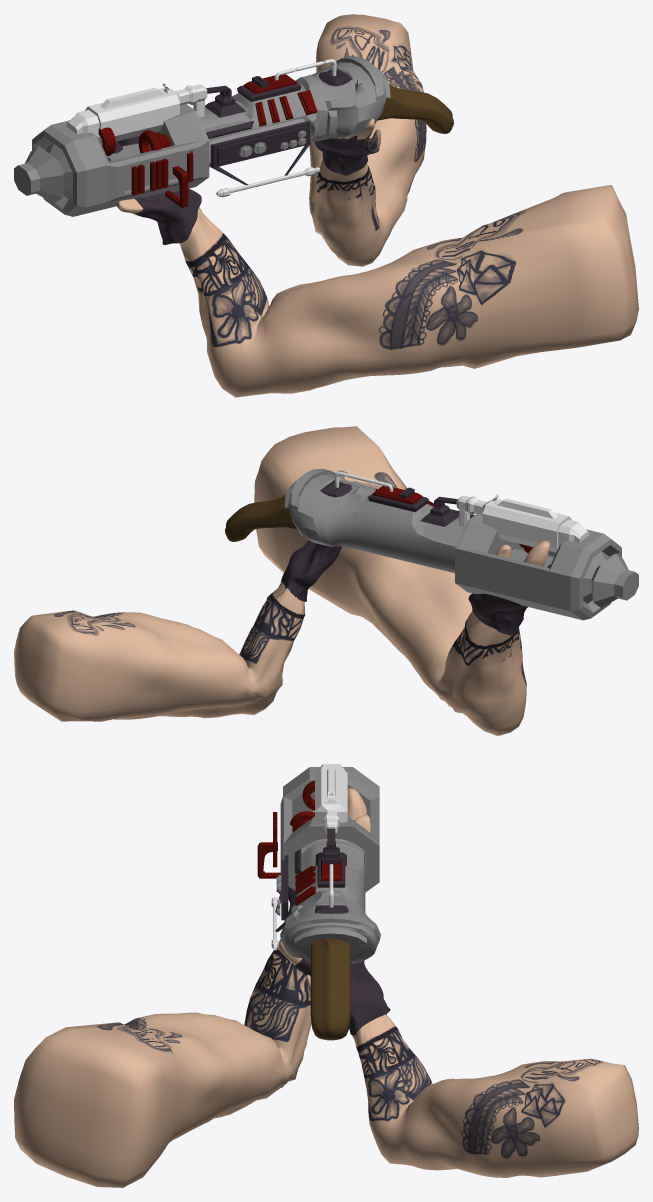
The model's file is YeniKol.fbx.
3 views of the same model, one above another, from view 1: azimuth 30°, elevation 25°; view 2: azimuth 150°, elevation 25°; view 3: azimuth 270°, elevation 25° (orthographic). The views are drawn at different scales.
Visible parts, largest first — view 1: Cube.003, Cube.013, Cube.011, Cube.024, Cube.019, Cube.006, Cube.016, Cube.001, Cube.015, Cube.005, Cylinder.005, Cube.012 (+2 smaller); view 2: Cube.003, Cube.013, Cube.011, Cube.024, Cube.019, Cube.006, Cube.015, Cube.001, Cube.018, Cube.020, Cube.021; view 3: Cube.003, Cube.013, Cube.024, Cube.011, Cube.001, Cube.015, Cube.019, Cube.006, Cube.005, Cube.012.
Boxes of the visible parts, left/top/right/bottom form: Cube.003: left=179, top=185, right=638, bottom=397; Cube.013: left=309, top=14, right=426, bottom=266; Cube.011: left=14, top=104, right=209, bottom=216; Cube.024: left=199, top=56, right=390, bottom=167; Cube.019: left=66, top=83, right=207, bottom=144; Cube.006: left=107, top=136, right=201, bottom=244; Cube.016: left=210, top=120, right=310, bottom=185; Cube.001: left=377, top=84, right=453, bottom=133; Cube.015: left=314, top=118, right=381, bottom=175; Cube.005: left=131, top=152, right=193, bottom=207; Cylinder.005: left=98, top=127, right=171, bottom=156; Cube.012: left=255, top=90, right=317, bottom=126; Cube.003: left=254, top=426, right=526, bottom=735; Cube.013: left=14, top=581, right=305, bottom=721; Cube.011: left=455, top=514, right=638, bottom=620; Cube.024: left=284, top=468, right=464, bottom=573; Cube.019: left=456, top=494, right=589, bottom=552; Cube.006: left=468, top=540, right=550, bottom=635; Cube.015: left=280, top=540, right=341, bottom=601; Cube.001: left=225, top=495, right=296, bottom=541; Cube.018: left=420, top=496, right=458, bottom=526; Cube.020: left=368, top=494, right=428, bottom=512; Cube.021: left=372, top=486, right=422, bottom=504; Cube.003: left=14, top=939, right=311, bottom=1187; Cube.013: left=352, top=1014, right=638, bottom=1177; Cube.024: left=280, top=838, right=380, bottom=964; Cube.011: left=280, top=767, right=379, bottom=892; Cube.001: left=310, top=938, right=350, bottom=1040; Cube.015: left=278, top=939, right=390, bottom=1035; Cube.019: left=315, top=764, right=347, bottom=834; Cube.006: left=288, top=788, right=370, bottom=915; Cube.005: left=257, top=812, right=280, bottom=878; Cube.012: left=295, top=866, right=315, bottom=905.
Size of the model in its own units: 1119 by 598 by 1172.
Materials: 6 (1 with a texture image).
